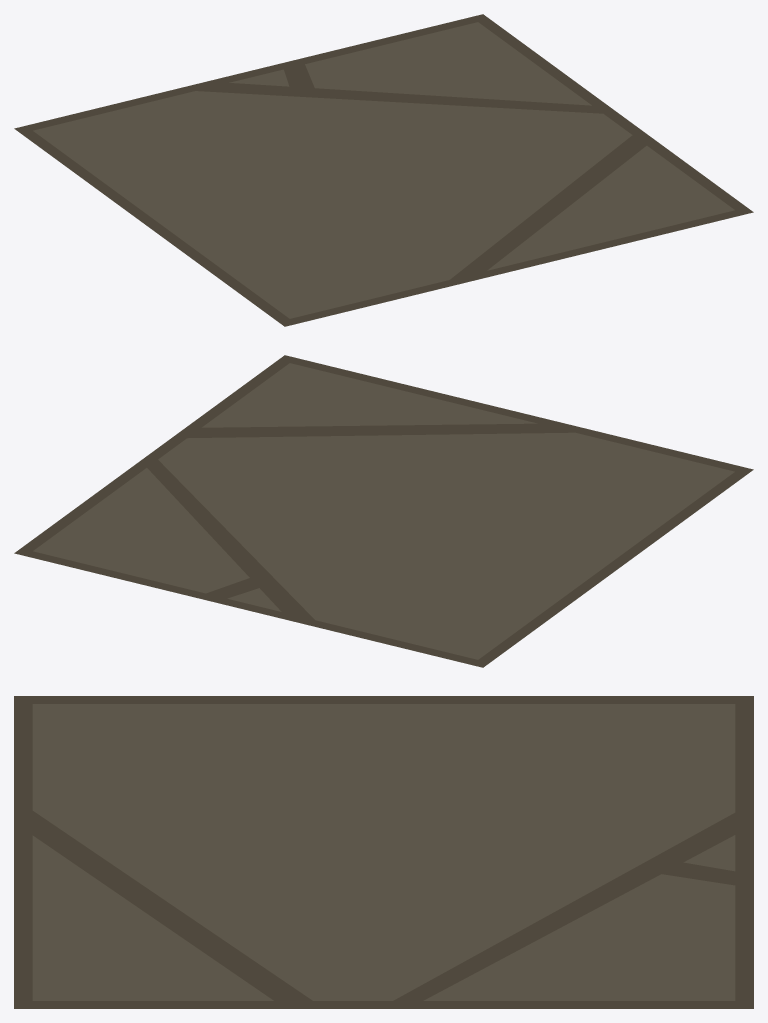
File: SD_Env_Undead_Floor_02.fbx
3 renders of one model, top to bottom at view 1: azimuth 30°, elevation 25°; view 2: azimuth 150°, elevation 25°; view 3: azimuth 270°, elevation 25°, orthographic. The views are drawn at different scales.
Visible parts, largest first — view 1: SD_Env_Undead_Floor_02; view 2: SD_Env_Undead_Floor_02; view 3: SD_Env_Undead_Floor_02.
Part boxes in pixels (x1=…): SD_Env_Undead_Floor_02: x1=14, y1=14, x2=753, y2=326; SD_Env_Undead_Floor_02: x1=14, y1=355, x2=753, y2=667; SD_Env_Undead_Floor_02: x1=14, y1=696, x2=753, y2=1008.
Size of the model in its own units: 5 by 0 by 5.
